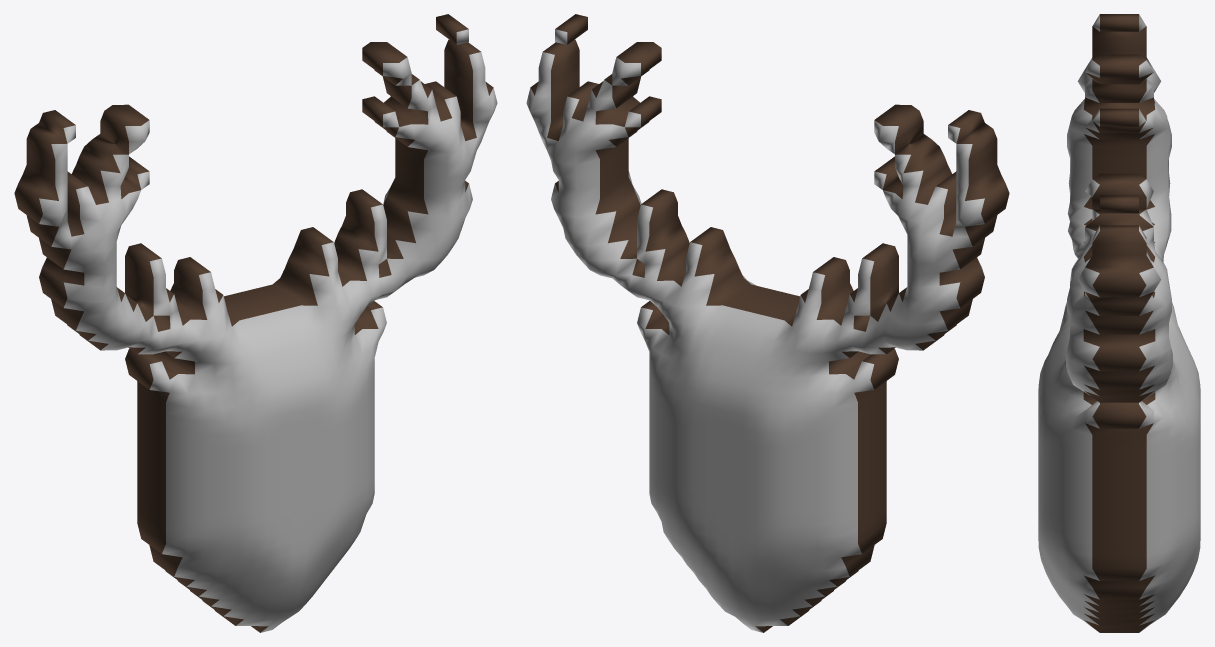
The model's file is stag_head.glb.
3 views of the same model, side by side, from view 1: azimuth 30°, elevation 25°; view 2: azimuth 150°, elevation 25°; view 3: azimuth 270°, elevation 25° (orthographic). The views are drawn at different scales.
Parts seen in each view (by area): view 1: stag_head; view 2: stag_head; view 3: stag_head.
Part boxes in pixels (x1,y1,x2,y2): stag_head: (14,14,497,632); stag_head: (526,14,1009,632); stag_head: (1038,14,1200,632).
Bounding box in the file's own units: 0.6727 × 0.7818 × 0.22.
